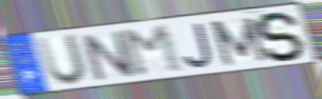J: (181, 21, 216, 70)
M: (117, 23, 187, 79), (206, 15, 271, 68)
N: (77, 29, 139, 83)
S: (255, 10, 308, 63)
U: (34, 32, 90, 88)
